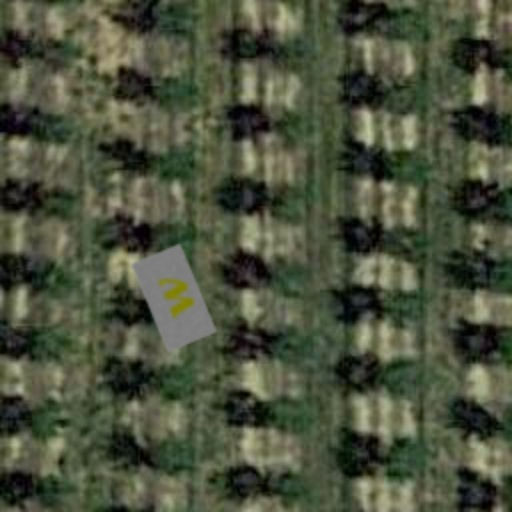rectangle: (110, 234, 238, 362)
